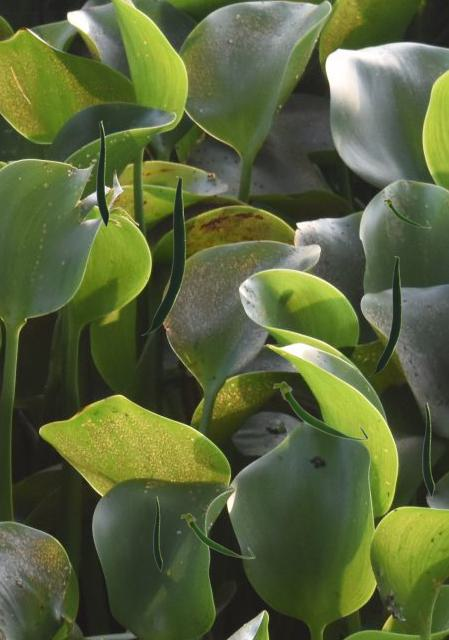french_bean: (141, 176, 184, 334), (272, 380, 368, 440), (368, 256, 400, 375), (180, 512, 254, 558), (383, 198, 430, 227), (96, 120, 108, 226), (422, 402, 433, 496), (153, 496, 161, 570)
